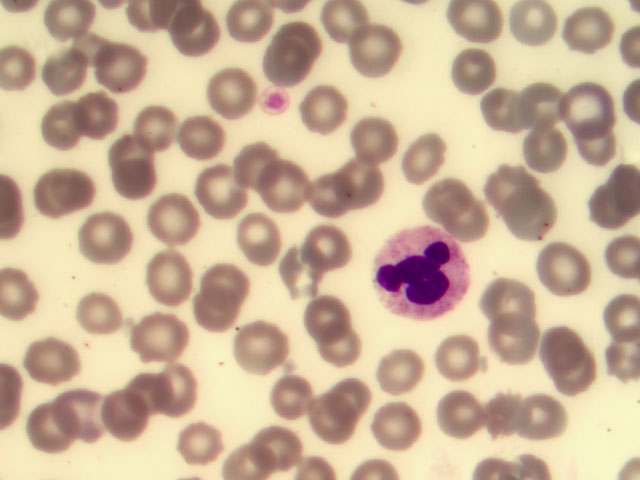Platelets: (261, 87, 292, 116)
RBC: (1, 258, 50, 322), (584, 233, 640, 281), (584, 182, 640, 230), (170, 7, 225, 55), (224, 1, 279, 48), (45, 1, 100, 48), (45, 50, 89, 96), (93, 43, 137, 89), (81, 90, 125, 136), (43, 104, 87, 150), (56, 160, 100, 206), (27, 174, 71, 220), (86, 210, 130, 256), (110, 162, 154, 208), (111, 127, 155, 173), (138, 108, 182, 154), (182, 115, 226, 161), (206, 76, 250, 122), (259, 42, 303, 88), (286, 10, 330, 56), (340, 25, 384, 71), (323, 1, 367, 47), (453, 49, 497, 95), (461, 1, 505, 47), (509, 2, 553, 48), (570, 6, 614, 52), (566, 83, 610, 129), (577, 125, 621, 171), (525, 125, 569, 171), (521, 84, 565, 130), (481, 87, 525, 133), (487, 156, 531, 202), (515, 198, 559, 244), (448, 201, 492, 247), (420, 177, 464, 223), (410, 133, 454, 179), (352, 115, 396, 161), (305, 87, 349, 133), (338, 160, 382, 206), (304, 172, 348, 218), (259, 159, 303, 205), (236, 146, 280, 192), (188, 170, 232, 216), (151, 197, 195, 243), (145, 254, 189, 300), (204, 256, 248, 302), (191, 292, 235, 338), (238, 215, 282, 261), (274, 249, 318, 295), (311, 225, 355, 271), (302, 292, 346, 338), (319, 328, 363, 374), (375, 346, 419, 392), (440, 339, 484, 385), (494, 324, 538, 370), (478, 273, 522, 319), (541, 246, 585, 292), (537, 317, 581, 363), (561, 347, 605, 393), (596, 295, 640, 341), (528, 392, 572, 438), (482, 391, 526, 437), (438, 392, 482, 438), (380, 405, 424, 451), (333, 376, 377, 422), (303, 396, 347, 442), (265, 372, 309, 418), (237, 326, 281, 372), (139, 312, 183, 358), (158, 365, 202, 411), (133, 372, 177, 418), (102, 396, 146, 442), (58, 394, 102, 440), (31, 409, 75, 455), (26, 338, 70, 384), (81, 296, 125, 342), (173, 419, 217, 465)
WBC: (377, 230, 470, 320)
